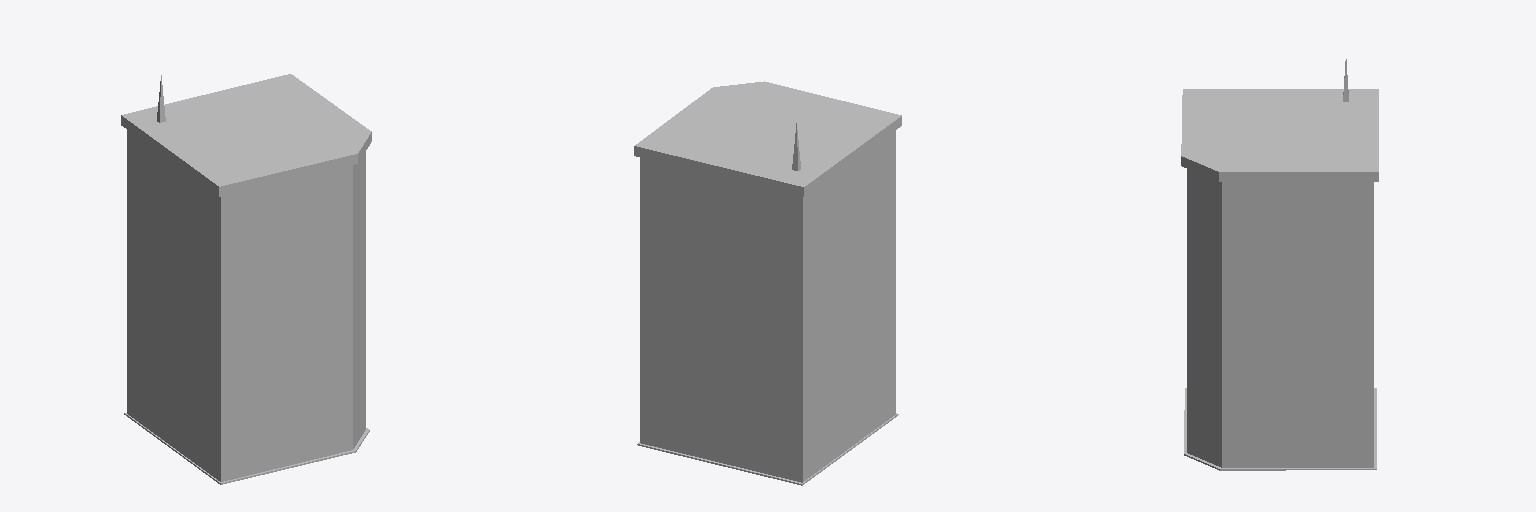
Rendered from skyscraper3.obj.
The picture shows the model from 3 angles: view 1: azimuth 30°, elevation 25°; view 2: azimuth 150°, elevation 25°; view 3: azimuth 270°, elevation 25°; orthographic projection.
Parts seen in each view (by area): view 1: skyscraper_3; view 2: skyscraper_3; view 3: skyscraper_3.
Boxes of the visible parts, x1=… form: skyscraper_3: x1=121, y1=74, x2=371, y2=484; skyscraper_3: x1=634, y1=81, x2=901, y2=485; skyscraper_3: x1=1181, y1=59, x2=1378, y2=470.
Bounding box in the file's own units: 236 × 458 × 236.